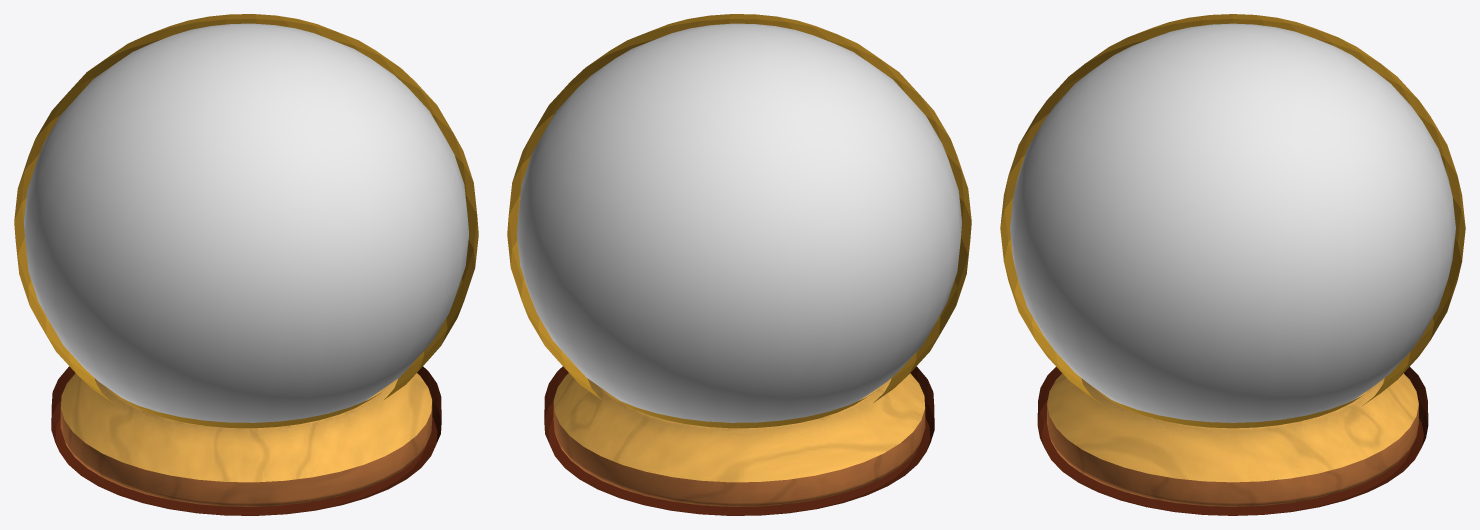
File: Lamp.glb
The picture shows the model from 3 angles, left to right: view 1: azimuth 30°, elevation 25°; view 2: azimuth 150°, elevation 25°; view 3: azimuth 270°, elevation 25°; orthographic projection.
Parts seen in each view (by area): view 1: LampGlow, Lamp, Lamp_Outline; view 2: LampGlow, Lamp, Lamp_Outline; view 3: LampGlow, Lamp, Lamp_Outline.
Part boxes in pixels (x1,y1,x2,y2): LampGlow: (24, 23, 468, 422); Lamp: (60, 373, 432, 506); Lamp_Outline: (14, 14, 478, 515); LampGlow: (517, 23, 961, 422); Lamp: (553, 373, 925, 506); Lamp_Outline: (507, 14, 971, 515); LampGlow: (1010, 23, 1455, 422); Lamp: (1047, 373, 1418, 506); Lamp_Outline: (1000, 14, 1465, 515).
Bounding box in the file's own units: 3.13 × 2.98 × 3.13.
2 materials, 2 textured.
